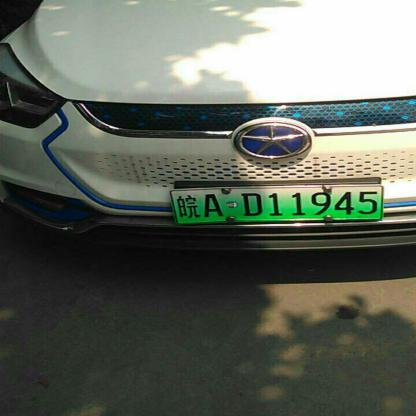lp: (169, 186, 382, 228)
